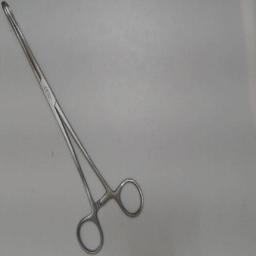Sponge Forceps: (2, 1, 148, 255)
